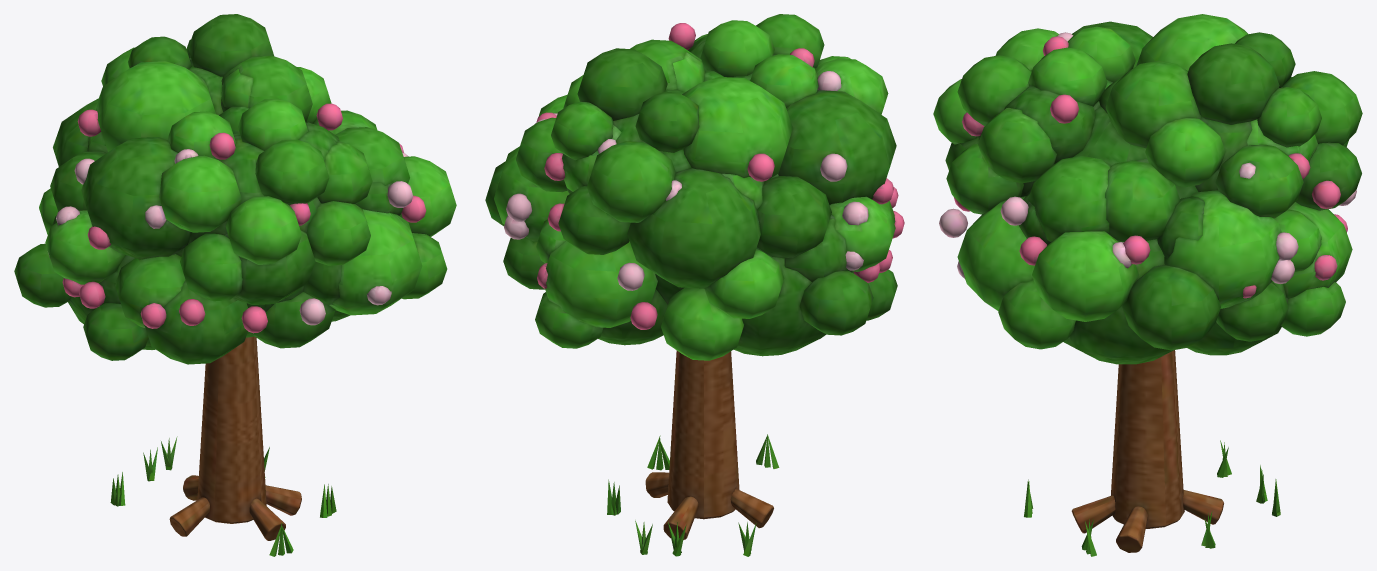
Rendered from crabapple_tree.glb.
The picture shows the model from 3 angles, left to right: view 1: azimuth 30°, elevation 25°; view 2: azimuth 150°, elevation 25°; view 3: azimuth 270°, elevation 25°; orthographic projection. The views are drawn at different scales.
Parts seen in each view (by area): view 1: crown, crabapple_tree; view 2: crown, crabapple_tree; view 3: crown, crabapple_tree.
Boxes of the visible parts, x1=… form: crown: x1=14, y1=14, x2=456, y2=364; crabapple_tree: x1=110, y1=336, x2=336, y2=556; crown: x1=485, y1=14, x2=904, y2=360; crabapple_tree: x1=607, y1=350, x2=779, y2=556; crown: x1=933, y1=14, x2=1362, y2=364; crabapple_tree: x1=1024, y1=350, x2=1280, y2=556.
Size of the model in its own units: 1.13 by 1.31 by 1.03.
1 material, 1 textured.
